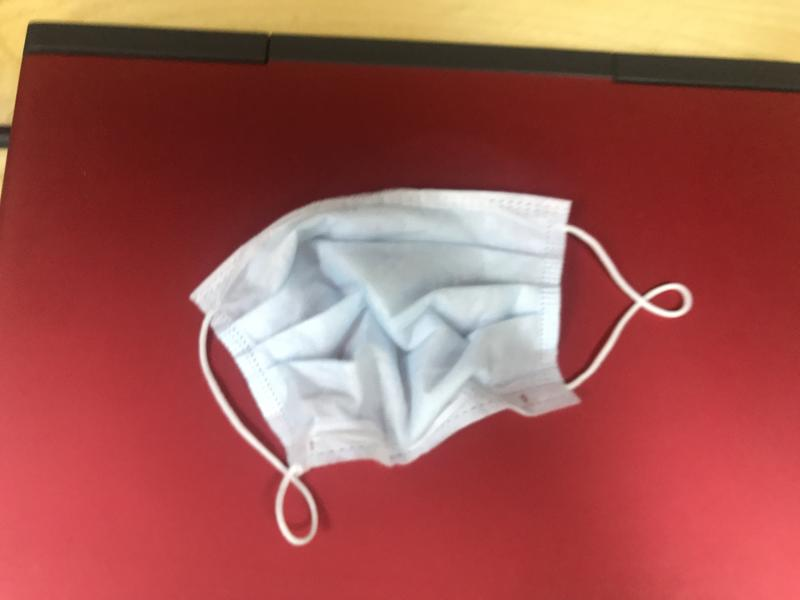medical_mask: (187, 188, 691, 553)
